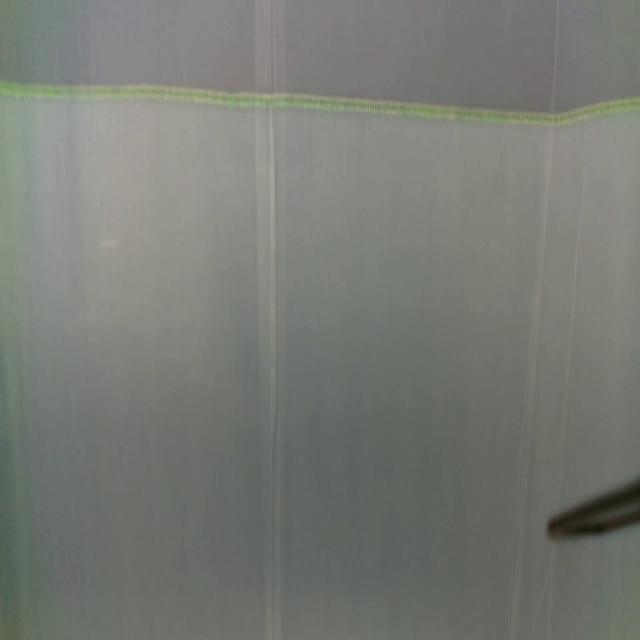crease: (506, 0, 560, 640), (253, 0, 287, 640), (558, 182, 586, 498)
